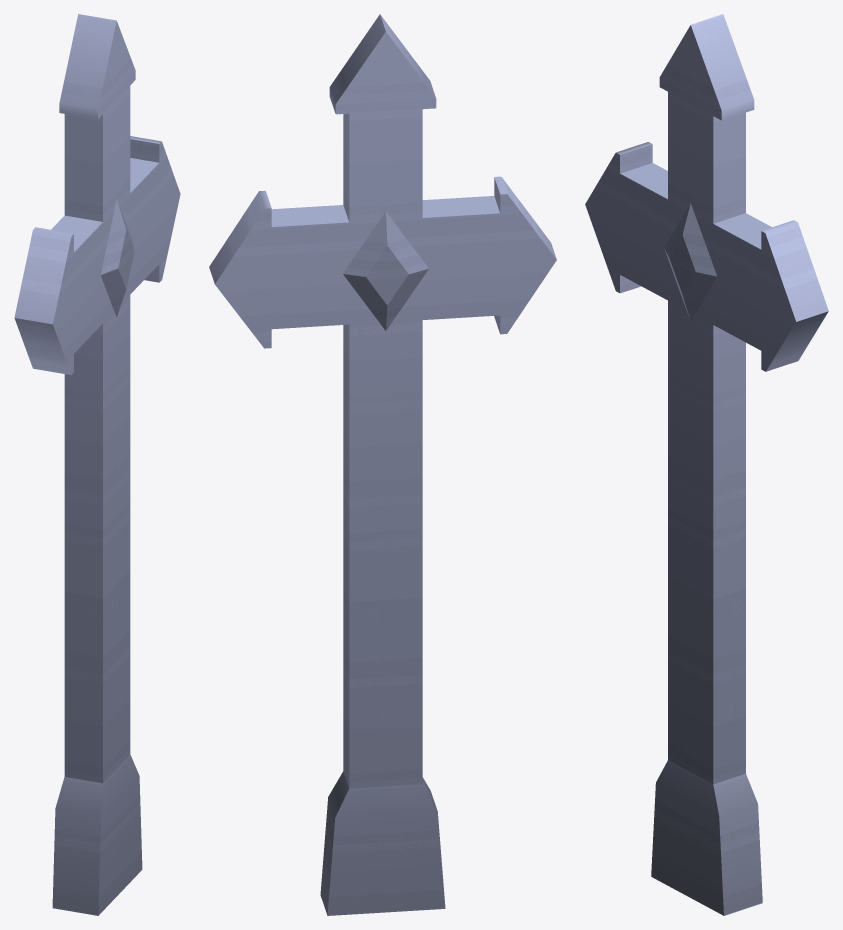
Rendered from cross_lev2.glb.
The picture shows the model from 3 angles, left to right: view 1: azimuth 30°, elevation 25°; view 2: azimuth 150°, elevation 25°; view 3: azimuth 270°, elevation 25°; orthographic projection.
Parts seen in each view (by area): view 1: cross_lev2; view 2: cross_lev2; view 3: cross_lev2.
Part boxes in pixels (x1,y1,x2,y2): cross_lev2: [14, 14, 180, 915]; cross_lev2: [209, 14, 556, 915]; cross_lev2: [585, 14, 828, 915].
Bounding box in the file's own units: 1.38 × 4.51 × 1.14.
Materials: 1 (1 with a texture image).
